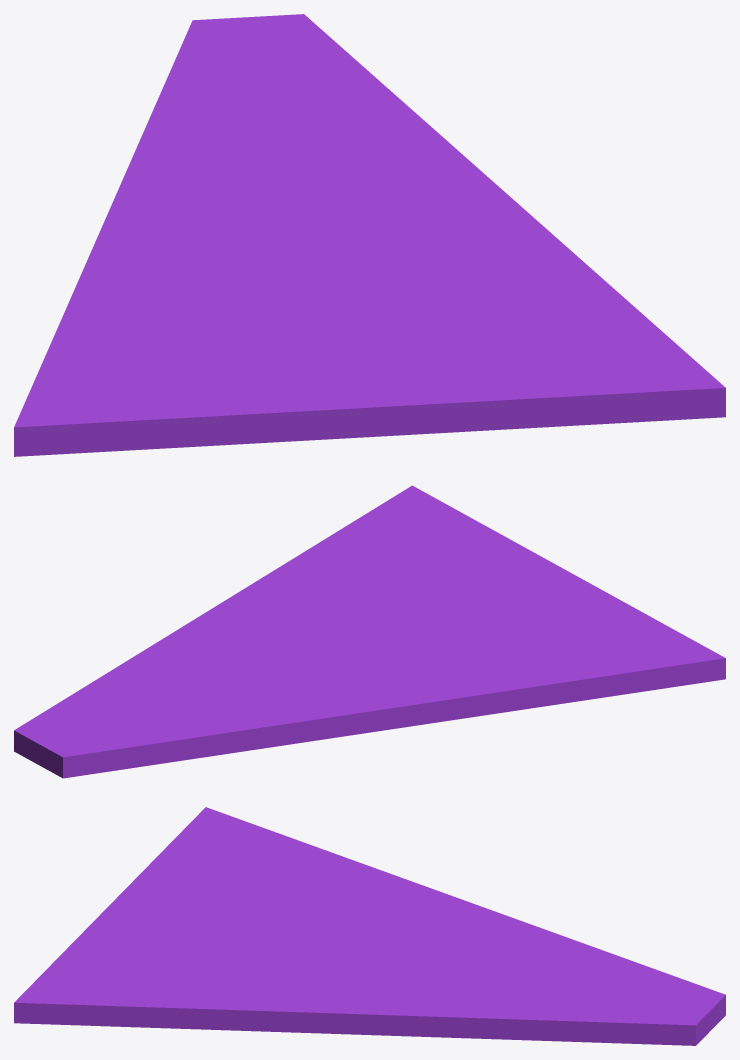
Rendered from StairsStep_33.fbx.
3 views of the same model, one above another, from view 1: azimuth 30°, elevation 25°; view 2: azimuth 150°, elevation 25°; view 3: azimuth 270°, elevation 25° (orthographic). The views are drawn at different scales.
Visible parts, largest first — view 1: StairsStep_33; view 2: StairsStep_33; view 3: StairsStep_33.
Boxes of the visible parts, bbox=[...] form: StairsStep_33: bbox=[14, 14, 725, 456]; StairsStep_33: bbox=[14, 485, 725, 778]; StairsStep_33: bbox=[14, 807, 725, 1045].
Size of the model in its own units: 409 by 17.94 by 564.
